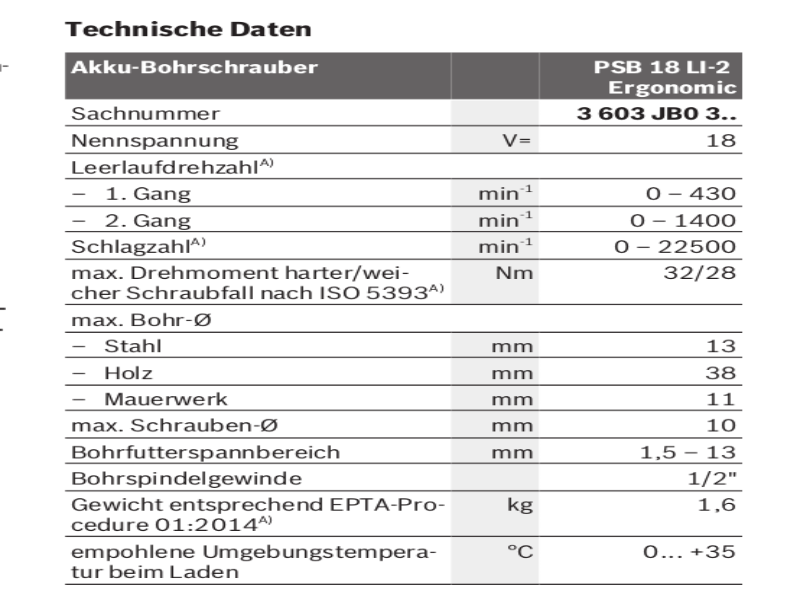borderless: (45, 43, 763, 591)
cell: (64, 492, 450, 533), (65, 541, 449, 581), (67, 263, 447, 301), (585, 55, 741, 97), (66, 442, 346, 461), (69, 56, 324, 76), (65, 467, 310, 487), (65, 417, 284, 434), (66, 130, 243, 151), (65, 158, 277, 174), (65, 309, 218, 330), (65, 390, 241, 408), (67, 103, 223, 123), (67, 234, 212, 255), (574, 104, 743, 122), (66, 183, 200, 203), (66, 211, 203, 229), (613, 236, 738, 255), (635, 181, 740, 203), (641, 541, 741, 563), (634, 441, 743, 461), (630, 210, 743, 229), (656, 262, 741, 282), (66, 338, 169, 353), (65, 365, 168, 380), (470, 183, 538, 202), (470, 209, 538, 228), (469, 235, 537, 254), (469, 263, 537, 282), (469, 335, 537, 354), (470, 362, 538, 381), (469, 389, 537, 408), (469, 416, 537, 435), (469, 442, 537, 461), (681, 468, 743, 487), (681, 494, 743, 513), (699, 335, 742, 355), (700, 361, 741, 381), (702, 415, 743, 434), (499, 494, 536, 514), (501, 541, 538, 561), (701, 389, 742, 407), (497, 130, 534, 149), (705, 132, 744, 150)
